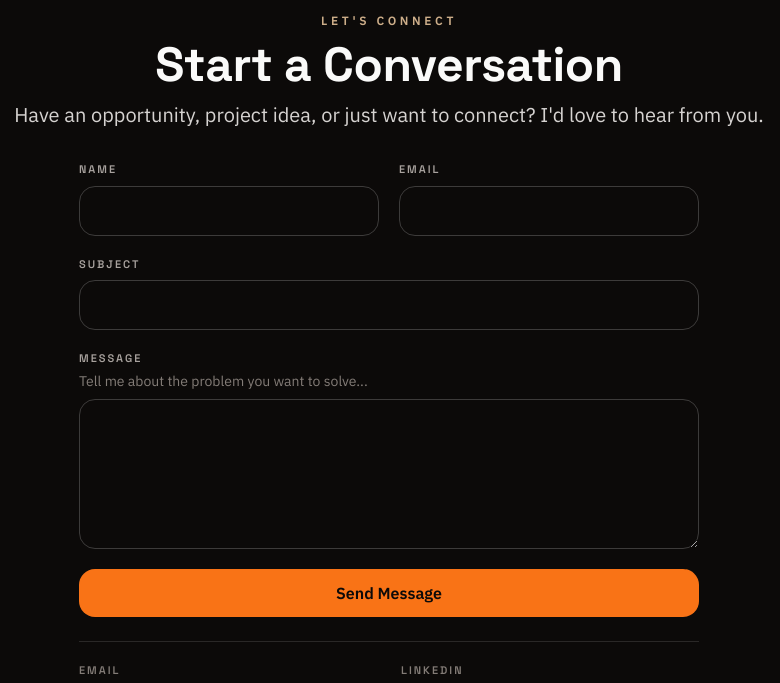
Test: ConnectSection › surfaces a network rejection too
In the field labelled "Name": (229, 210) x1=79 y1=186 x2=379 y2=236, type "Ada"
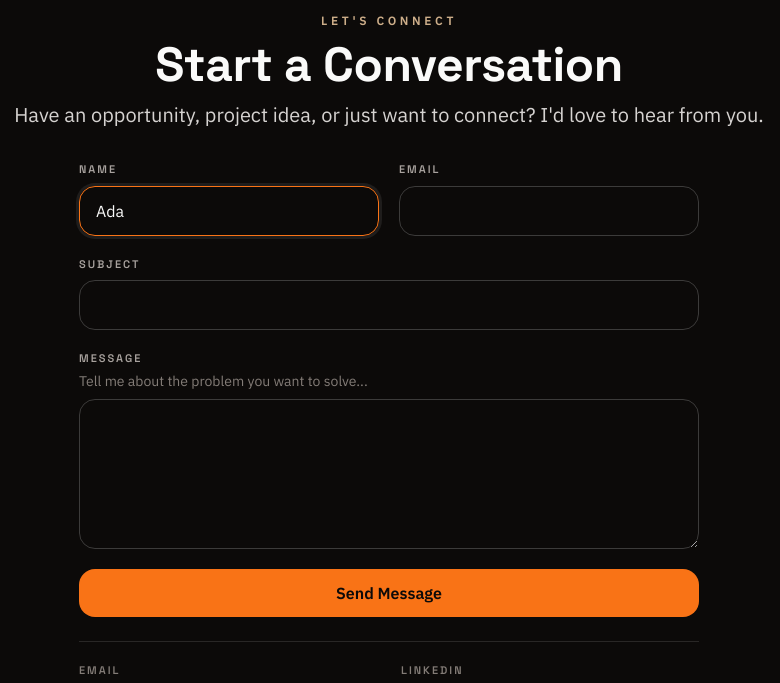
In the field labelled "Email": (549, 210) x1=399 y1=186 x2=699 y2=236, type "ada@example.com"
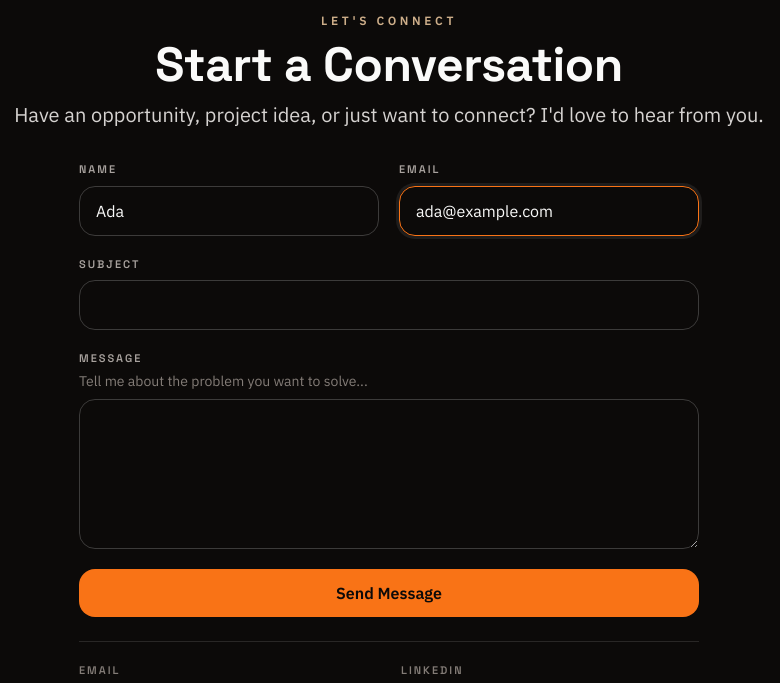
In the text box labelled "Message": (389, 474) x1=79 y1=398 x2=699 y2=548, type "Hi there"
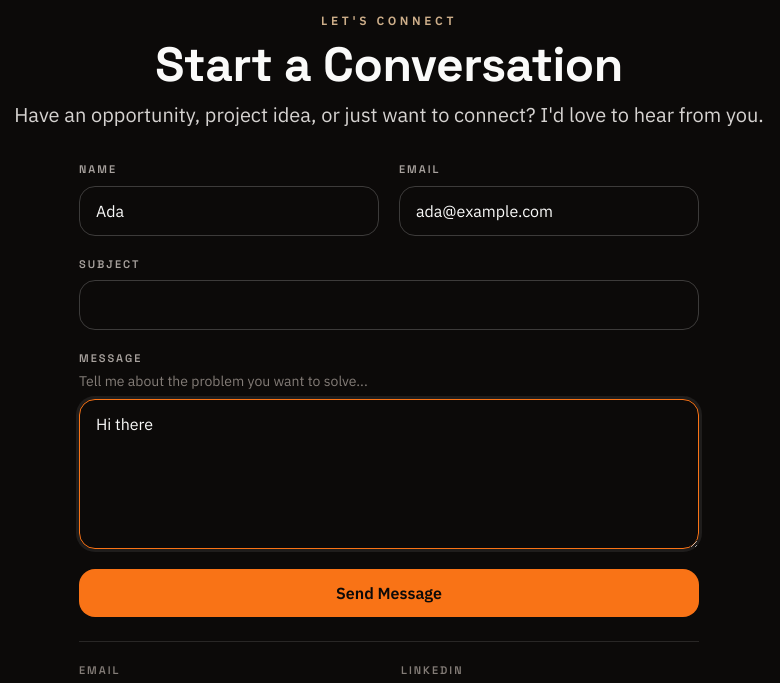
Click the button "Send Message": (389, 592) x1=79 y1=568 x2=699 y2=616
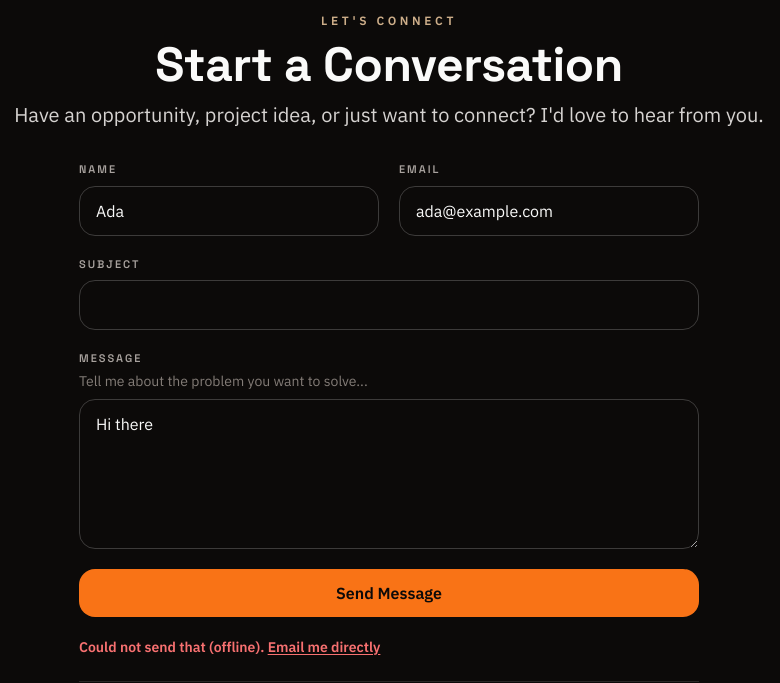
Expected: the message shows "offline", x1=214 y1=638 x2=256 y2=656
